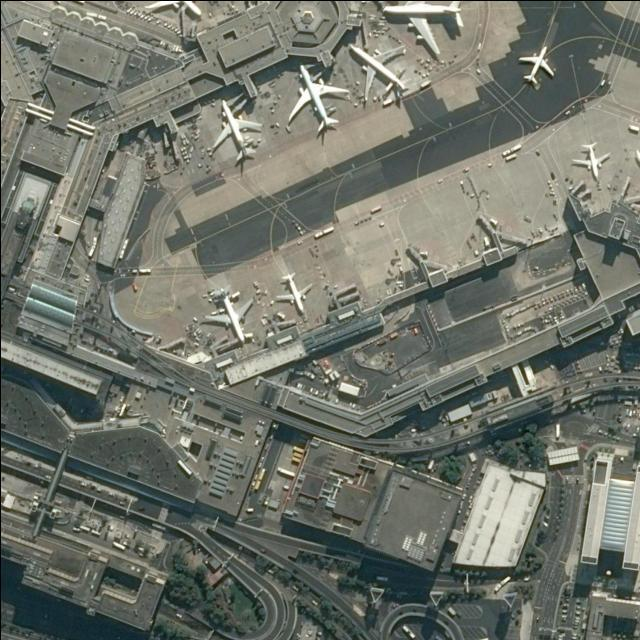Aircraft: (379, 0, 461, 61), (284, 63, 348, 137), (380, 0, 463, 57), (285, 64, 348, 136), (348, 41, 410, 106), (346, 41, 409, 103), (207, 100, 261, 164), (208, 99, 261, 163), (204, 285, 254, 347), (202, 286, 253, 345), (272, 270, 312, 316), (273, 271, 311, 315), (571, 140, 610, 182), (571, 141, 609, 183), (517, 47, 555, 88), (517, 45, 554, 87), (139, 0, 201, 19), (141, 0, 203, 19)
